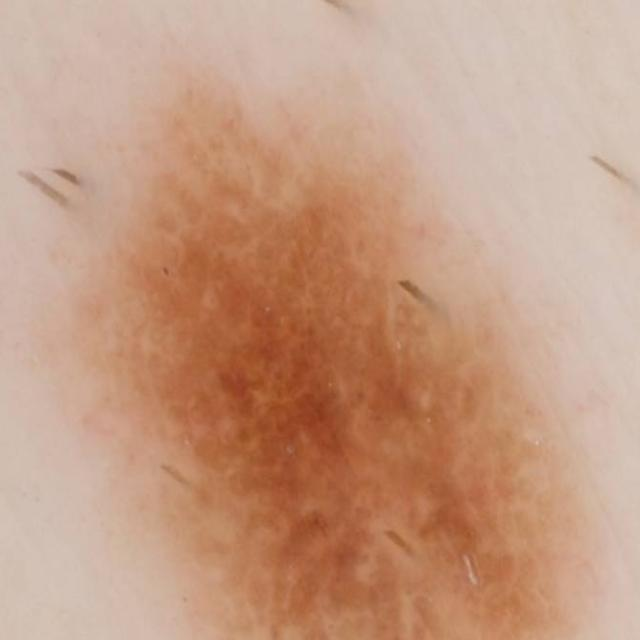Melanoma: (92, 142, 600, 640)
